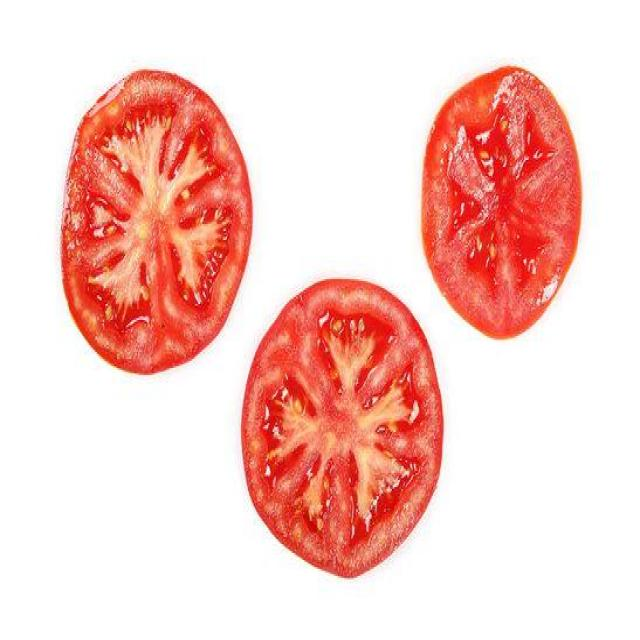Tomato: (237, 278, 451, 589), (54, 61, 263, 378), (422, 62, 588, 338)
